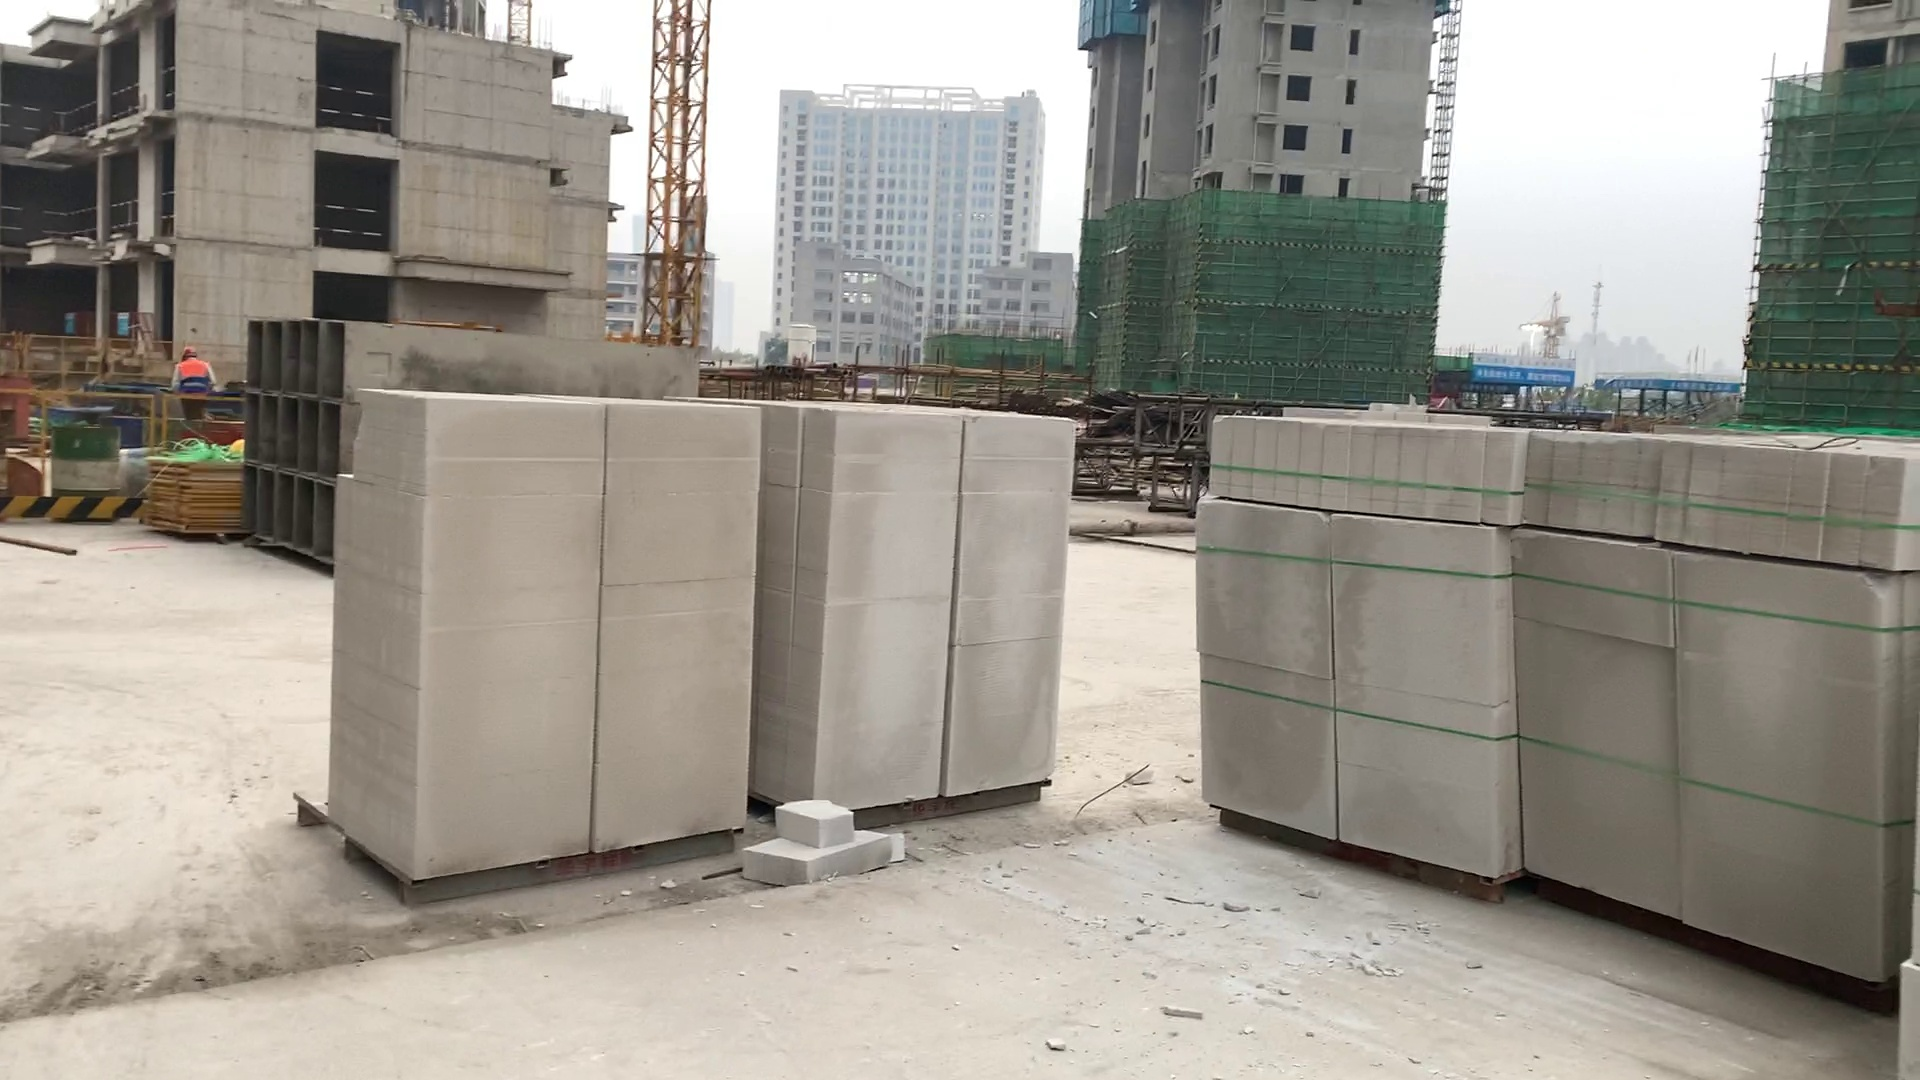brickwork: (1523, 431, 1902, 986), (338, 388, 752, 873), (1193, 415, 1519, 907), (773, 389, 1077, 802)
